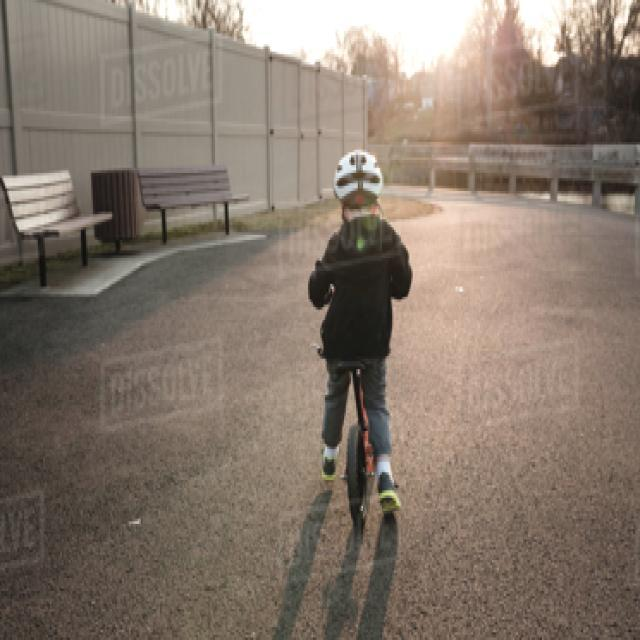Helmet: (325, 132, 387, 228)
